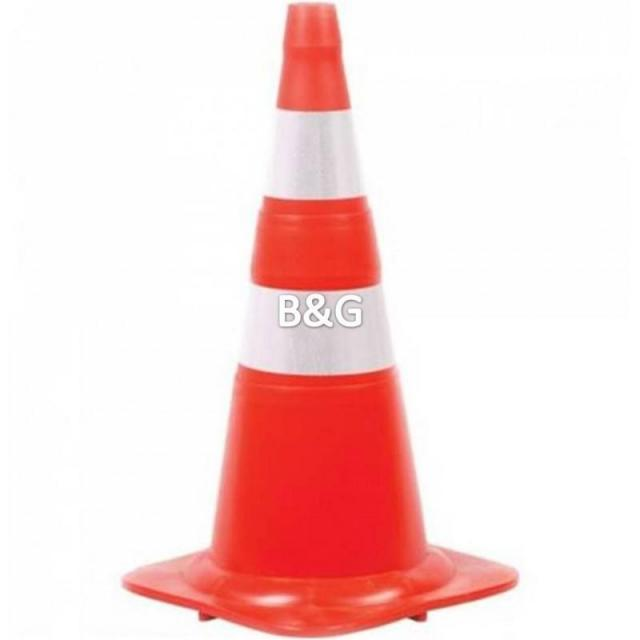cone: (123, 7, 528, 615)
